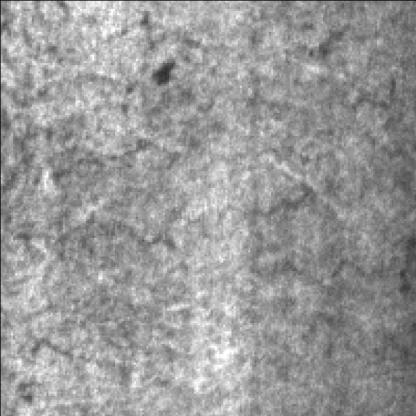crazing: (19, 206, 175, 389), (231, 183, 410, 295)
